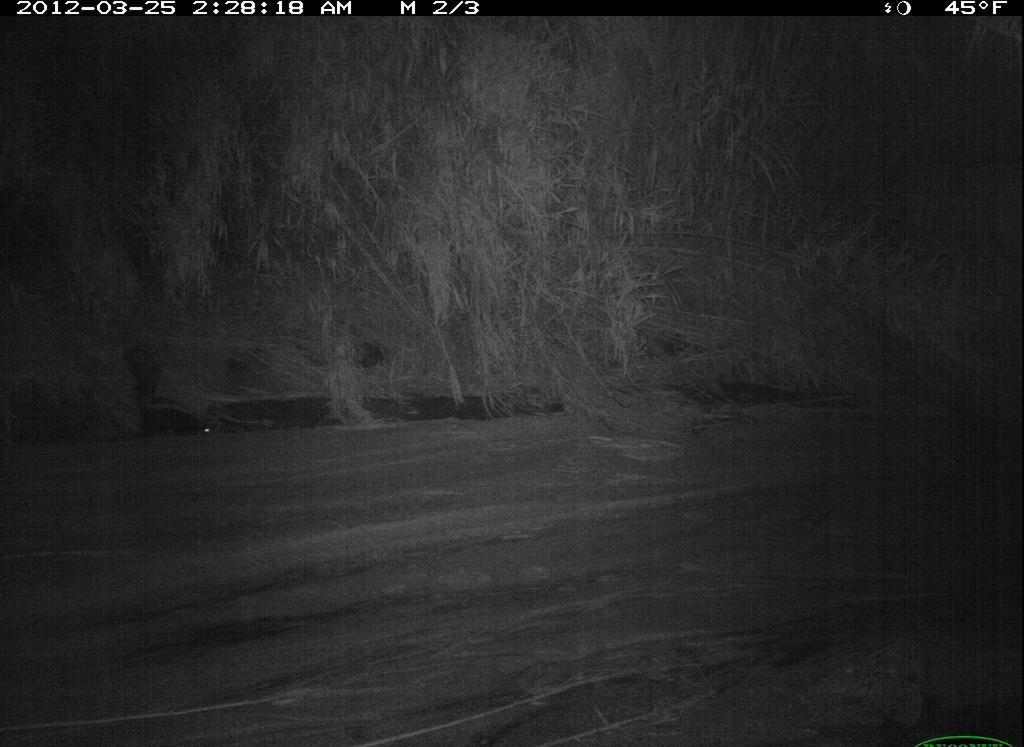skunk: (122, 341, 222, 443)
